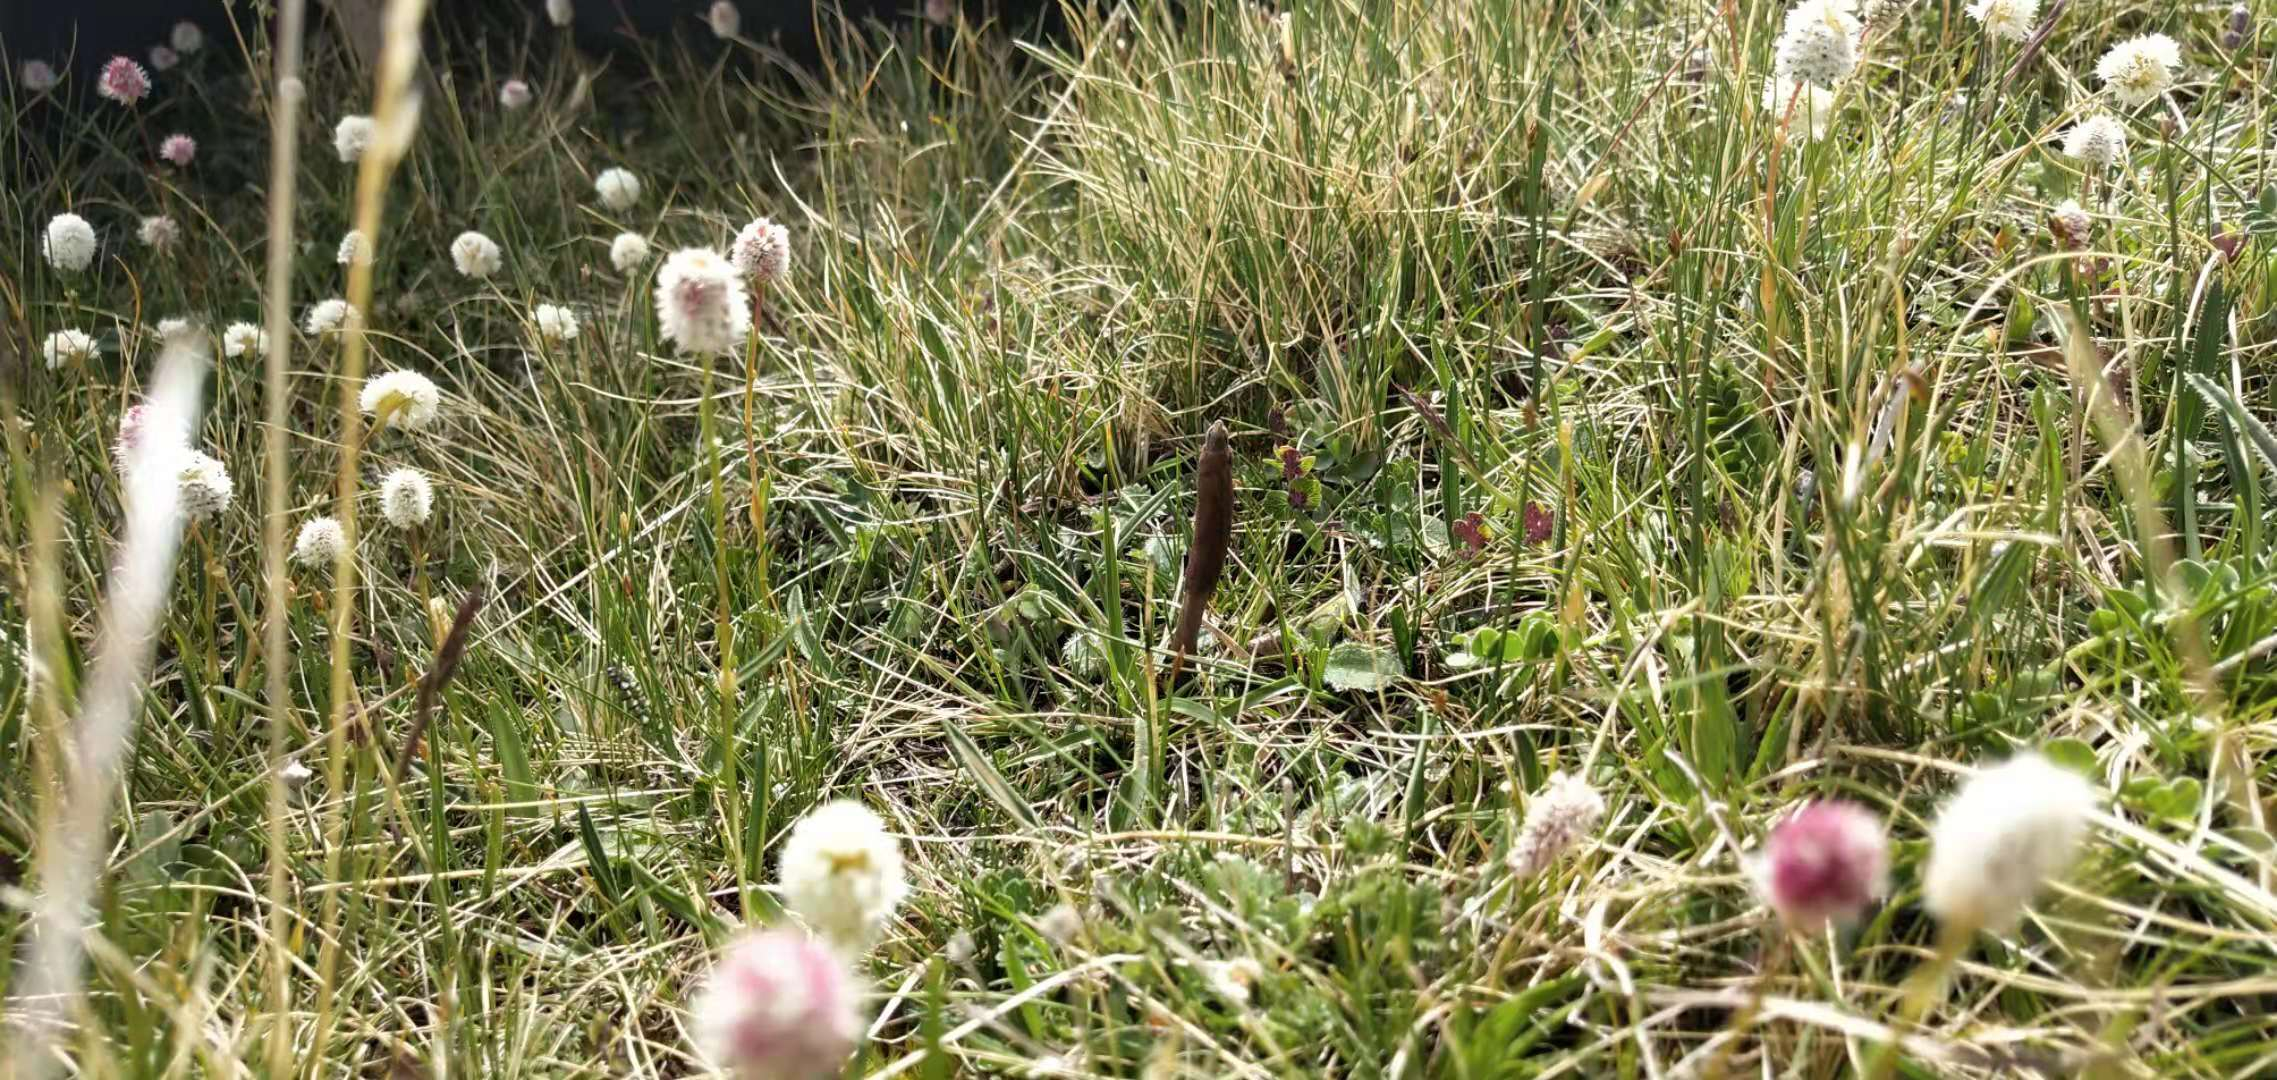cpf: (1165, 414, 1239, 672)
